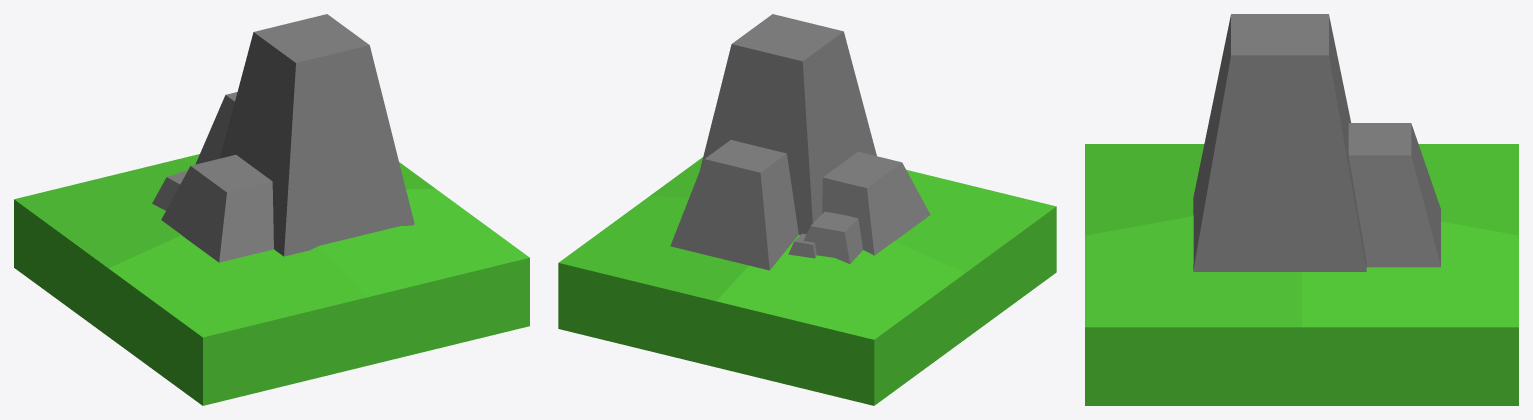
File: HardRock.fbx
The picture shows the model from 3 angles, left to right: view 1: azimuth 30°, elevation 25°; view 2: azimuth 150°, elevation 25°; view 3: azimuth 270°, elevation 25°; orthographic projection. The views are drawn at different scales.
Visible parts, largest first — view 1: Cube.005, Cube, Cube.002, Cube.001, Cube.004; view 2: Cube.005, Cube, Cube.001, Cube.002, Cube.004, Cube.003; view 3: Cube.005, Cube, Cube.001.
Part boxes in pixels (left/top/right/bottom): Cube.005: left=14, top=154, right=529, bottom=405; Cube: left=220, top=14, right=414, bottom=256; Cube.002: left=161, top=155, right=273, bottom=262; Cube.001: left=195, top=92, right=237, bottom=164; Cube.004: left=152, top=170, right=187, bottom=210; Cube.005: left=558, top=157, right=1056, bottom=405; Cube: left=700, top=14, right=876, bottom=234; Cube.001: left=670, top=140, right=798, bottom=270; Cube.002: left=822, top=151, right=930, bottom=255; Cube.004: left=803, top=211, right=862, bottom=263; Cube.003: left=788, top=233, right=816, bottom=258; Cube.005: left=1085, top=144, right=1518, bottom=405; Cube: left=1193, top=14, right=1366, bottom=271; Cube.001: left=1348, top=123, right=1440, bottom=267.
Bounding box in the file's own units: 500 × 377 × 500.
